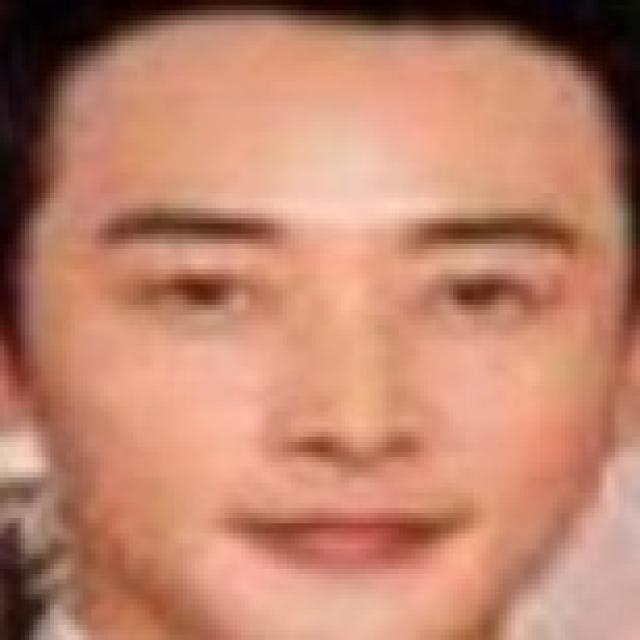no_mask: (51, 66, 608, 628)
